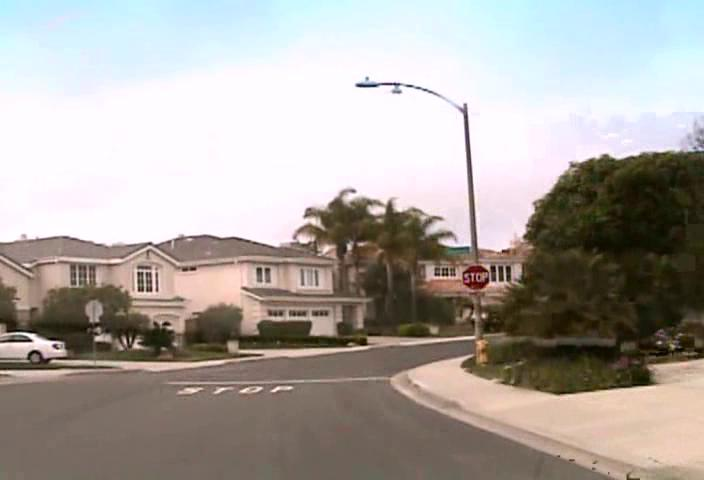stop: (461, 264, 490, 291)
